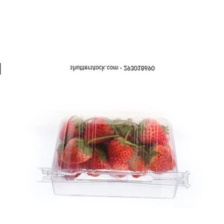plastic_box: (29, 108, 197, 210)
